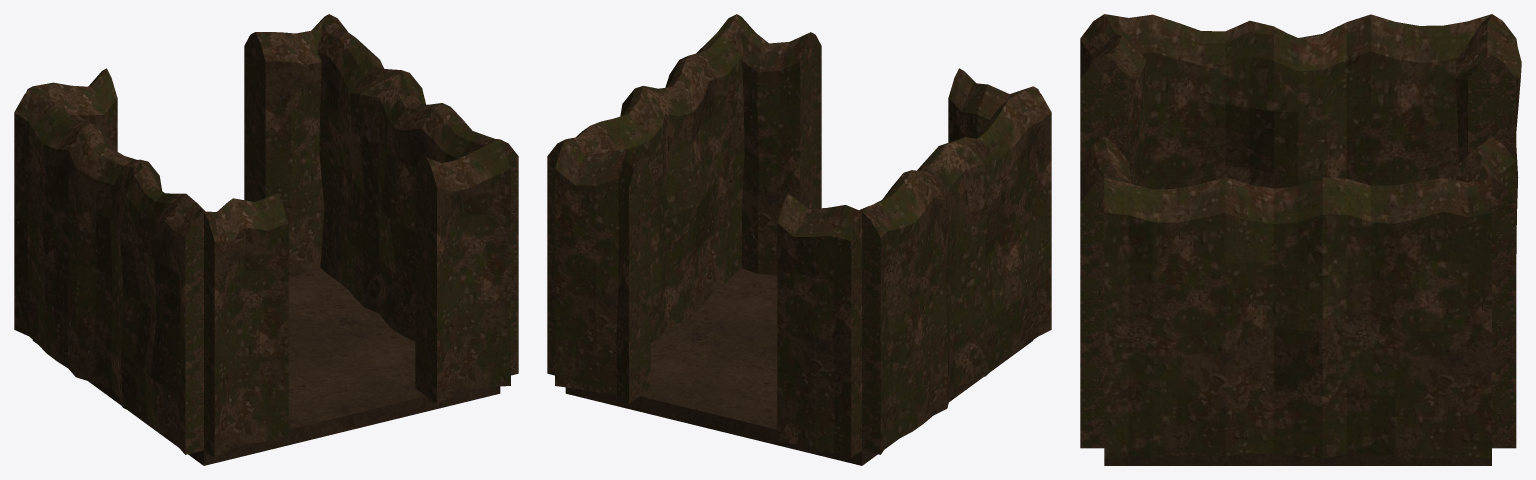
File: cave_room_01_dirt.glb
3 renders of one model, left to right at view 1: azimuth 30°, elevation 25°; view 2: azimuth 150°, elevation 25°; view 3: azimuth 270°, elevation 25°, orthographic. The views are drawn at different scales.
Visible parts, largest first — view 1: cave_room_01_dirt; view 2: cave_room_01_dirt; view 3: cave_room_01_dirt.
Boxes of the visible parts, bbox=[...] form: cave_room_01_dirt: bbox=[14, 14, 518, 465]; cave_room_01_dirt: bbox=[547, 14, 1051, 465]; cave_room_01_dirt: bbox=[1080, 14, 1521, 465].
Bounding box in the file's own units: 4.58 × 3.3 × 4.56.
Materials: 2 (2 with a texture image).
